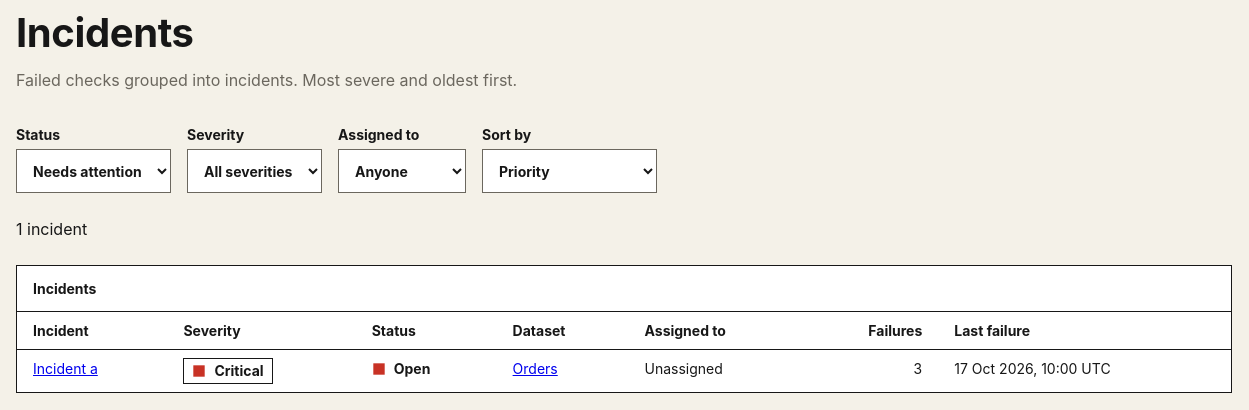
Test: Incidents page › sorts by most recent failure
This screenshot has width=1249, height=410.
Expected: the link "Incident a" is shown, [33,360,98,377]
Select "Most recent failure" in the dropdown labelled "Sort by" at [570, 171], box [482,149,657,193]
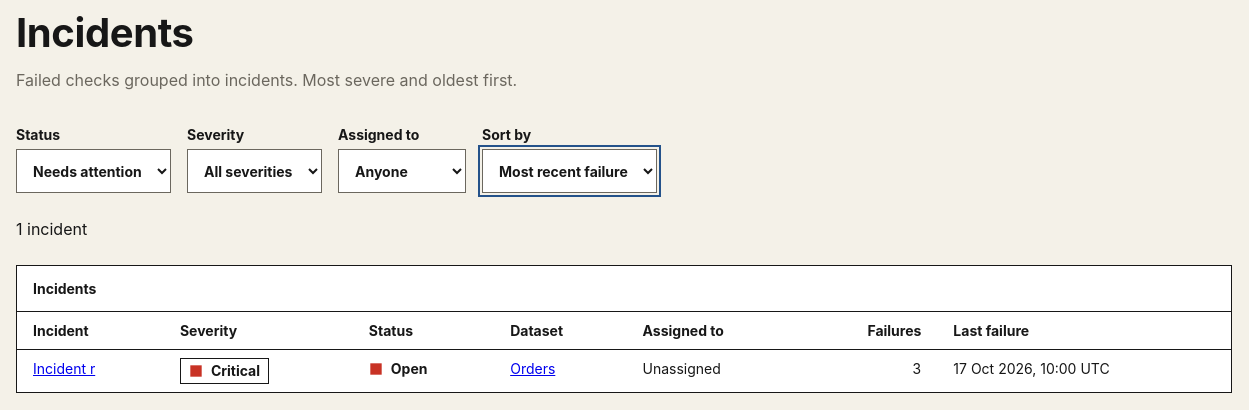
Expected: the link "Incident r" is shown, [33,360,95,377]
